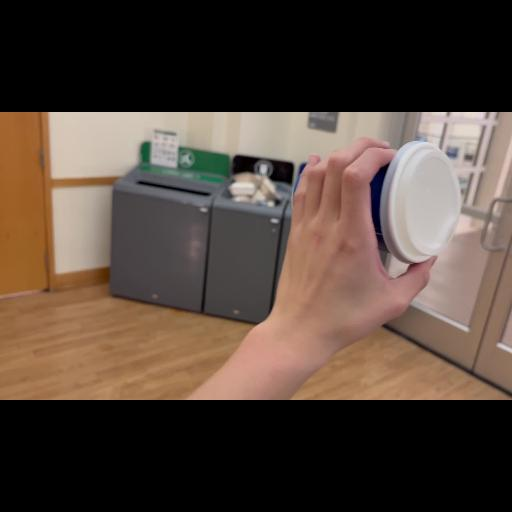lp_paper_cup: (312, 139, 470, 273)
